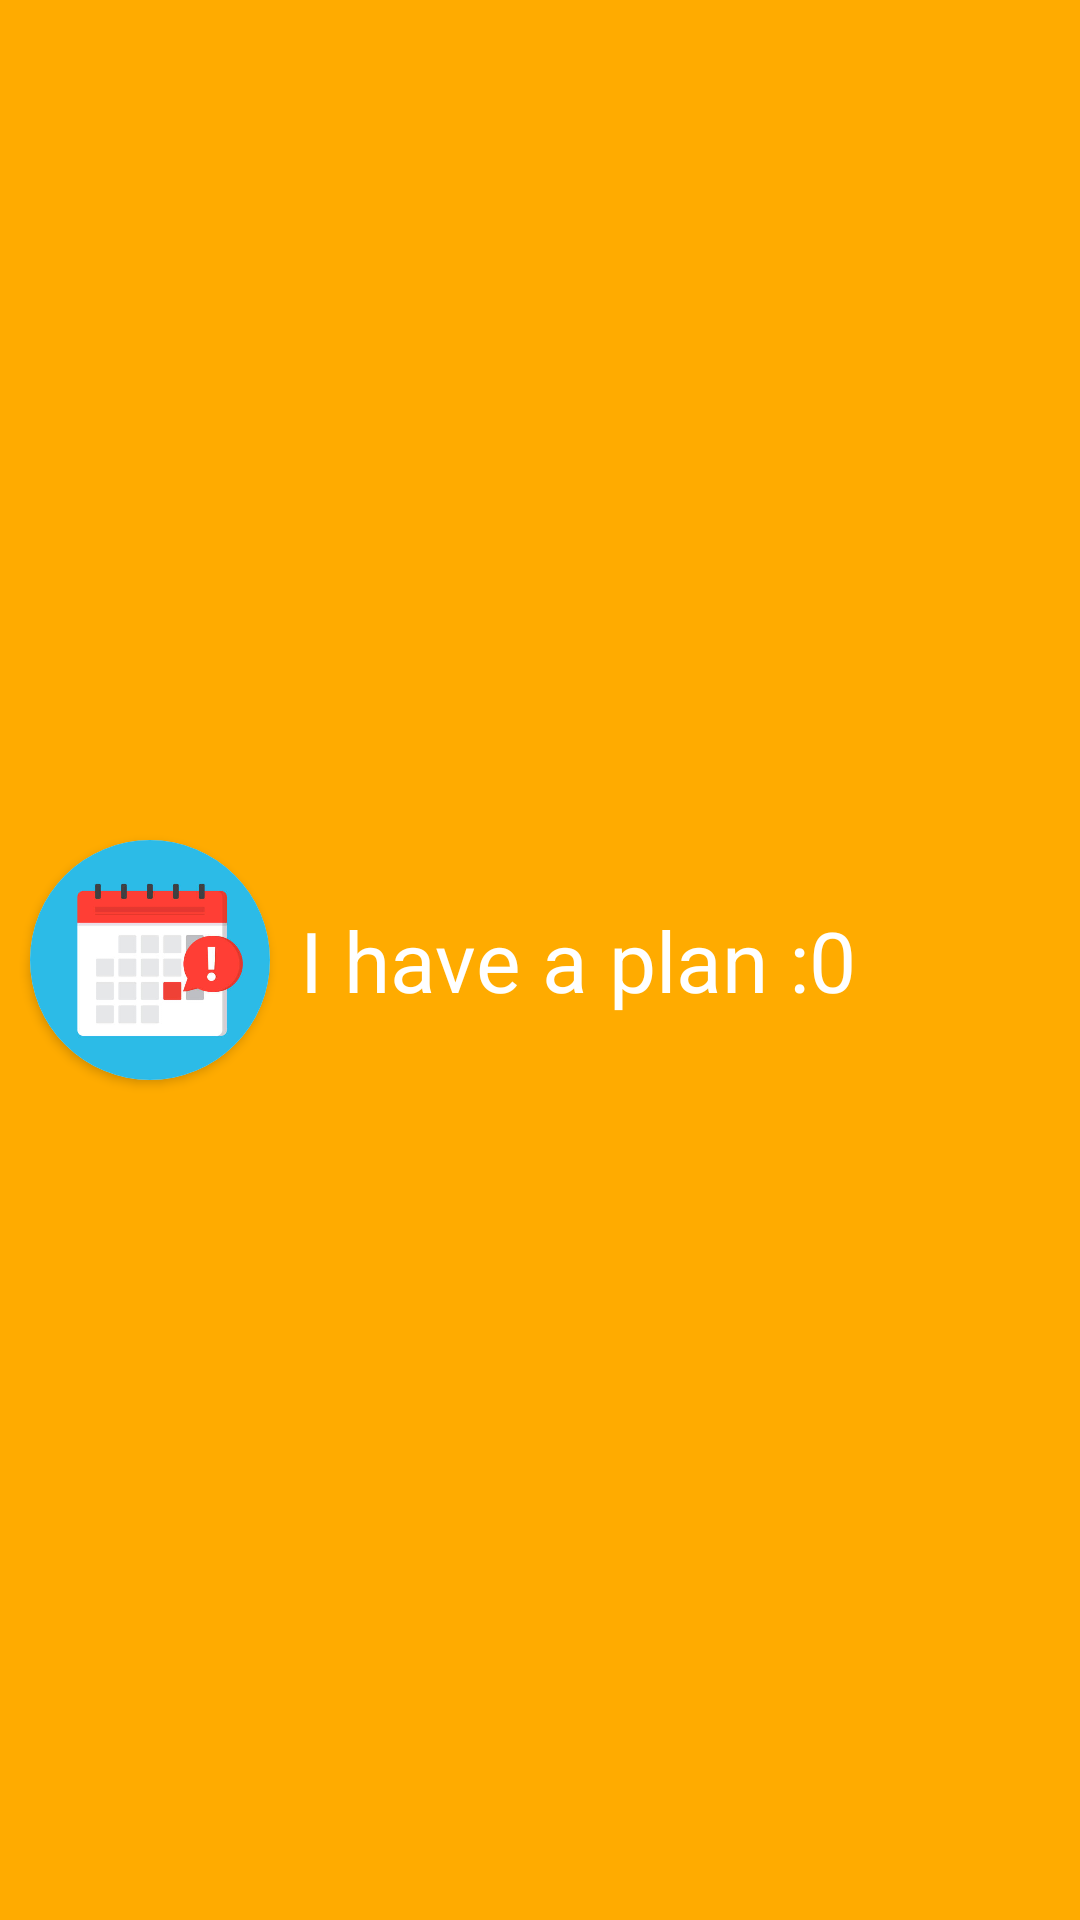

Icon bounding boxes for this 1080x1920 phone screenshot, format (x1, y1, x2, y2):
calendar: (30, 840, 270, 1080)
